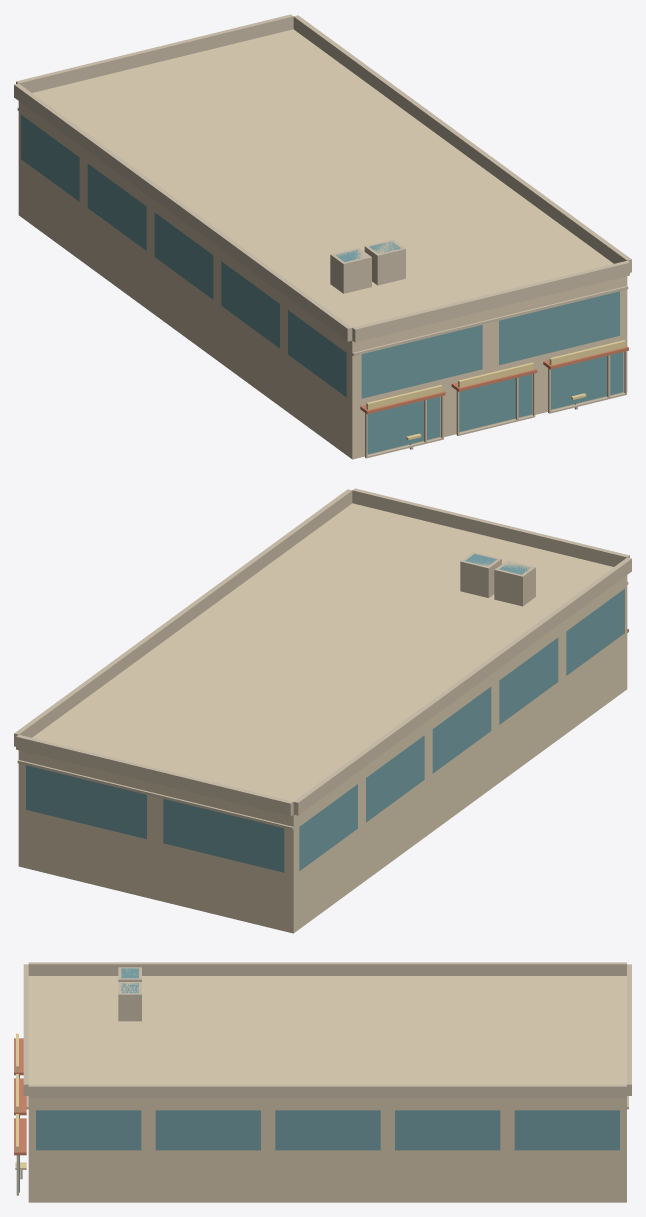
Rendered from commercial_2x4_a.glb.
The picture shows the model from 3 angles, top to bottom: view 1: azimuth 30°, elevation 25°; view 2: azimuth 150°, elevation 25°; view 3: azimuth 270°, elevation 25°; orthographic projection. The views are drawn at different scales.
Visible parts, largest first — view 1: commercial_2x4_a_0; view 2: commercial_2x4_a_0; view 3: commercial_2x4_a_0.
Part boxes in pixels (box(x1,y1,x2,y2)): commercial_2x4_a_0: box(14, 14, 631, 459); commercial_2x4_a_0: box(14, 488, 631, 933); commercial_2x4_a_0: box(14, 962, 631, 1202).
Bounding box in the file's own units: 15 × 7.5 × 31.5.
